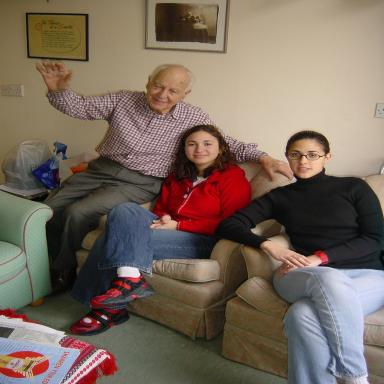plasticbag: (0, 138, 50, 190), (32, 140, 66, 191)
